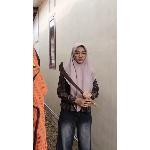Golok: (58, 60, 102, 109)
